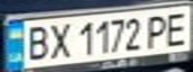1: (72, 18, 96, 56), (93, 16, 112, 54)
2: (124, 15, 145, 51)
7: (109, 16, 127, 53)
B: (21, 23, 54, 62)
E: (160, 8, 193, 47)
P: (142, 11, 172, 50)
X: (45, 20, 72, 61)
